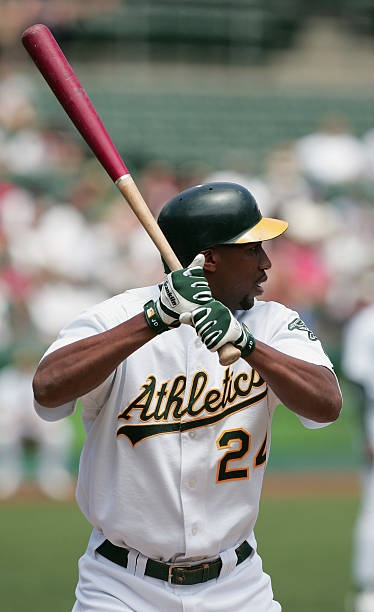bita: (26, 26, 191, 284)
